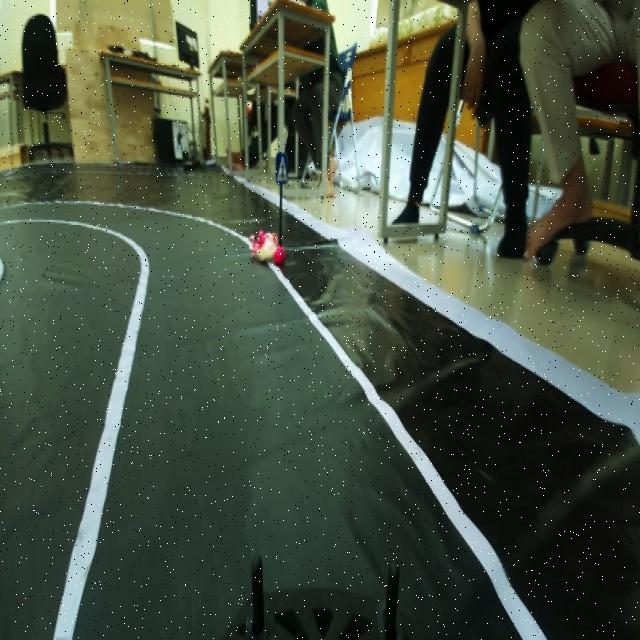crosswalk: (272, 149, 293, 188)
